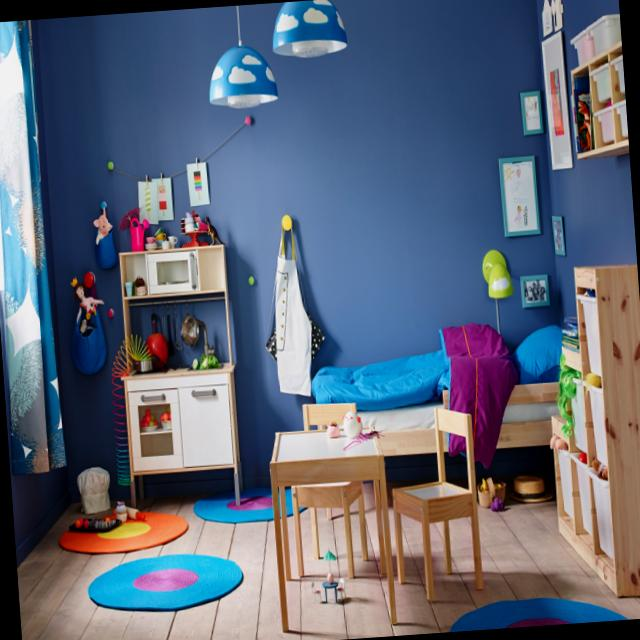obstacle: (106, 220, 252, 515), (526, 240, 640, 594), (264, 420, 399, 635), (384, 402, 488, 608)
